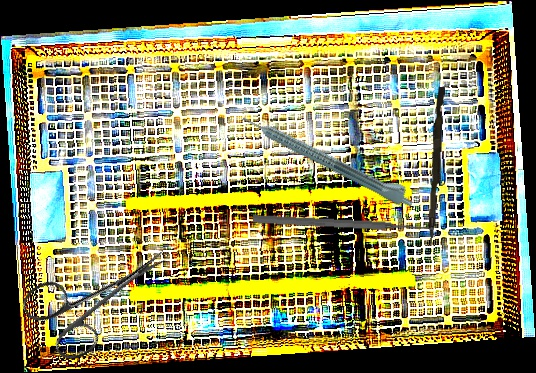Handpiece: (239, 105, 419, 211)
Iris Scissors: (17, 218, 187, 370)
Pusher: (252, 213, 435, 235), (428, 86, 445, 247)
